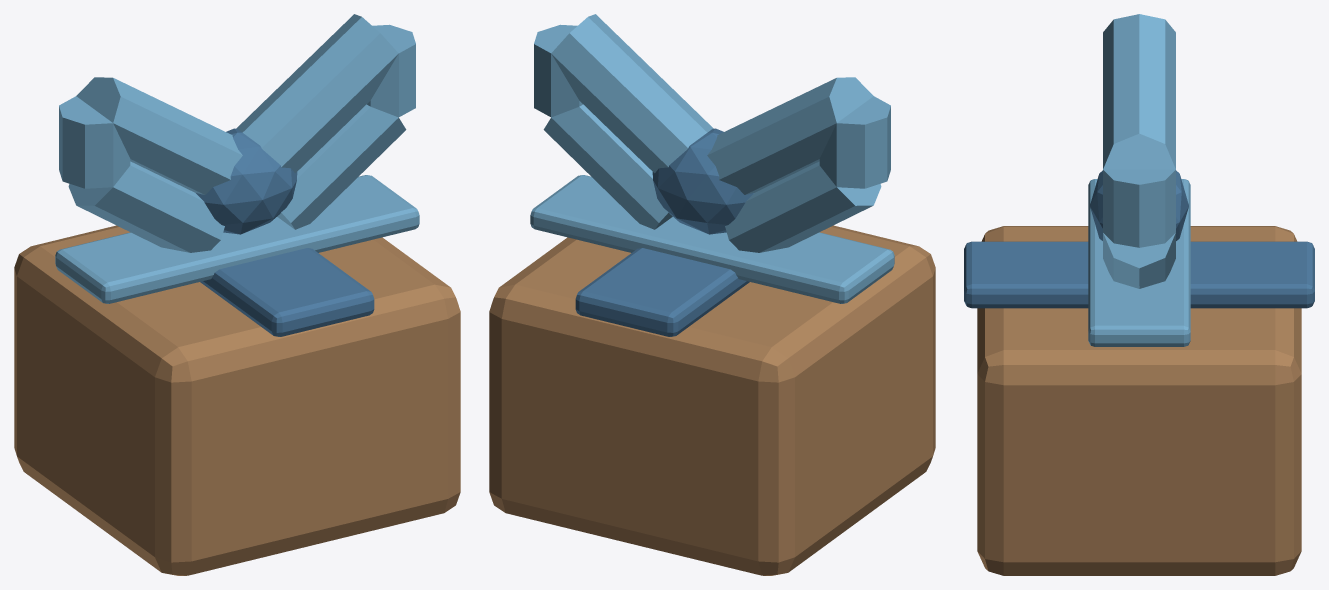
The model's file is wear_furoshiki.glb.
3 renders of one model, left to right at view 1: azimuth 30°, elevation 25°; view 2: azimuth 150°, elevation 25°; view 3: azimuth 270°, elevation 25°, orthographic.
Visible parts, largest first — view 1: Wrapped gift parcel, Blue furoshiki cross fold.001, Tied furoshiki bow_02.001, Blue furoshiki cross fold, Tied furoshiki bow_02, Tied furoshiki bow_00, Tied furoshiki bow_00.001, Knotted silk center, Tied furoshiki bow_01, Tied furoshiki bow_01.001; view 2: Wrapped gift parcel, Blue furoshiki cross fold.001, Tied furoshiki bow_02.001, Blue furoshiki cross fold, Tied furoshiki bow_02, Tied furoshiki bow_00, Tied furoshiki bow_00.001, Knotted silk center, Tied furoshiki bow_01, Tied furoshiki bow_01.001; view 3: Wrapped gift parcel, Blue furoshiki cross fold, Tied furoshiki bow_02, Blue furoshiki cross fold.001, Tied furoshiki bow_01.001, Tied furoshiki bow_00.001, Tied furoshiki bow_02.001, Knotted silk center.
Boxes of the visible parts, x1,y1,x2,y2 form: Wrapped gift parcel: (14, 225, 460, 575); Blue furoshiki cross fold.001: (55, 175, 419, 303); Tied furoshiki bow_02.001: (236, 14, 398, 173); Blue furoshiki cross fold: (200, 248, 374, 336); Tied furoshiki bow_02: (76, 77, 242, 194); Tied furoshiki bow_00: (68, 161, 224, 252); Tied furoshiki bow_00.001: (277, 104, 406, 229); Knotted silk center: (196, 128, 297, 234); Tied furoshiki bow_01: (59, 96, 130, 188); Tied furoshiki bow_01.001: (367, 24, 415, 117); Wrapped gift parcel: (489, 225, 935, 575); Blue furoshiki cross fold.001: (530, 175, 894, 303); Tied furoshiki bow_02.001: (551, 14, 713, 173); Blue furoshiki cross fold: (575, 248, 749, 336); Tied furoshiki bow_02: (707, 77, 873, 194); Tied furoshiki bow_00: (725, 161, 881, 252); Tied furoshiki bow_00.001: (543, 104, 672, 229); Knotted silk center: (652, 128, 753, 234); Tied furoshiki bow_01: (819, 96, 890, 188); Tied furoshiki bow_01.001: (534, 24, 582, 117); Wrapped gift parcel: (977, 226, 1301, 575); Blue furoshiki cross fold: (964, 241, 1314, 308); Tied furoshiki bow_02: (1103, 14, 1175, 168); Blue furoshiki cross fold.001: (1088, 179, 1190, 346); Tied furoshiki bow_01.001: (1103, 169, 1175, 247); Tied furoshiki bow_00.001: (1103, 233, 1175, 288); Tied furoshiki bow_02.001: (1103, 133, 1175, 169); Knotted silk center: (1090, 170, 1188, 240).
Bounding box in the file's own units: 1.6 × 1.95 × 1.41.
